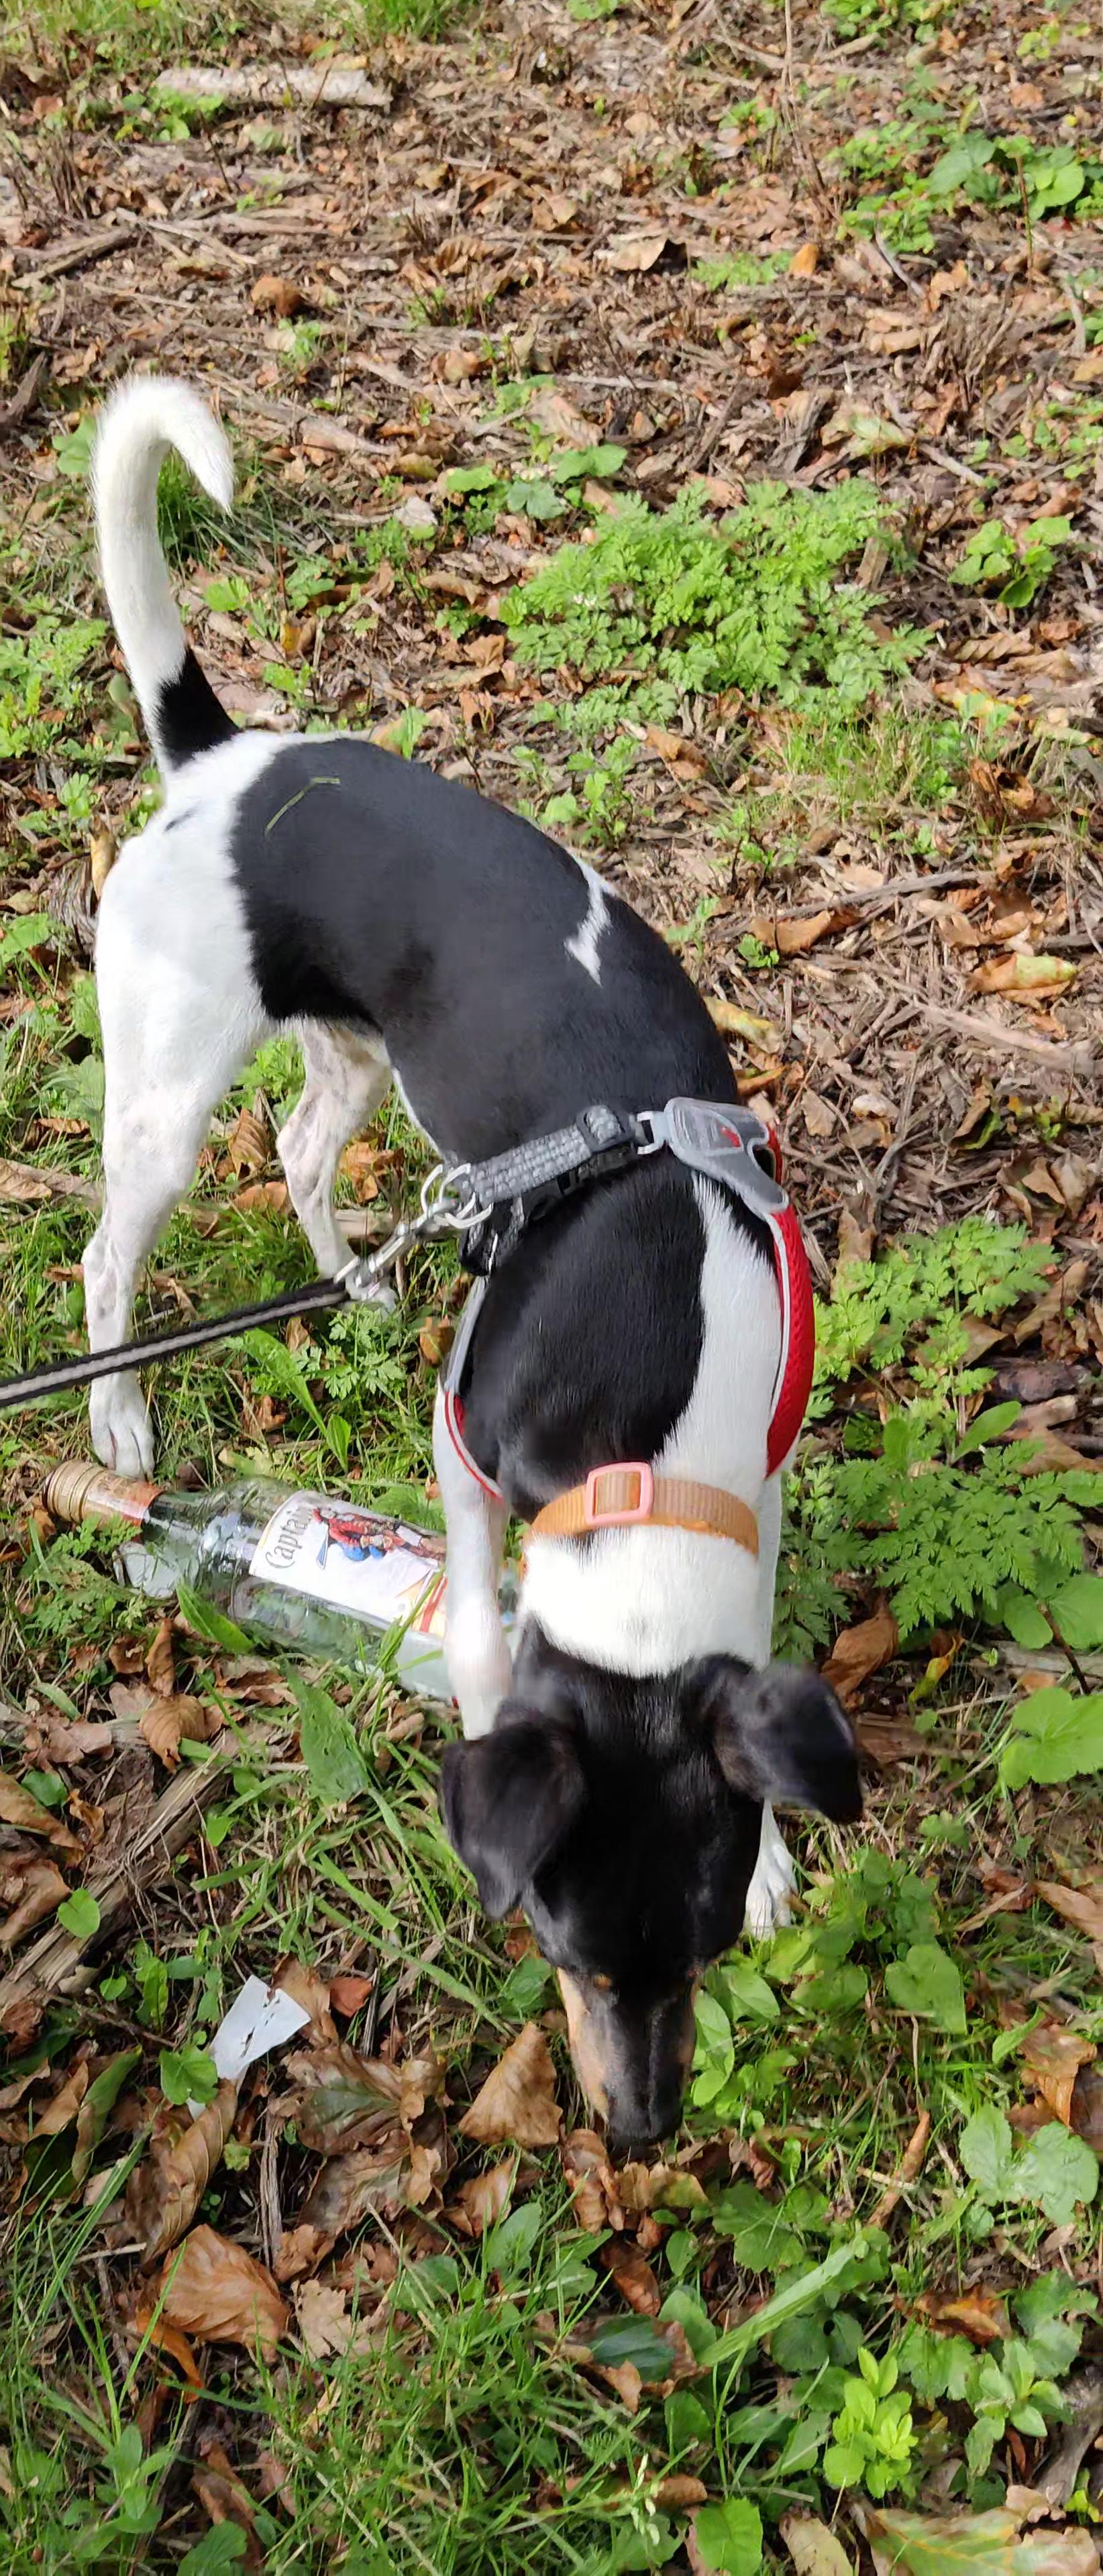Dog: (66, 338, 924, 2187)
